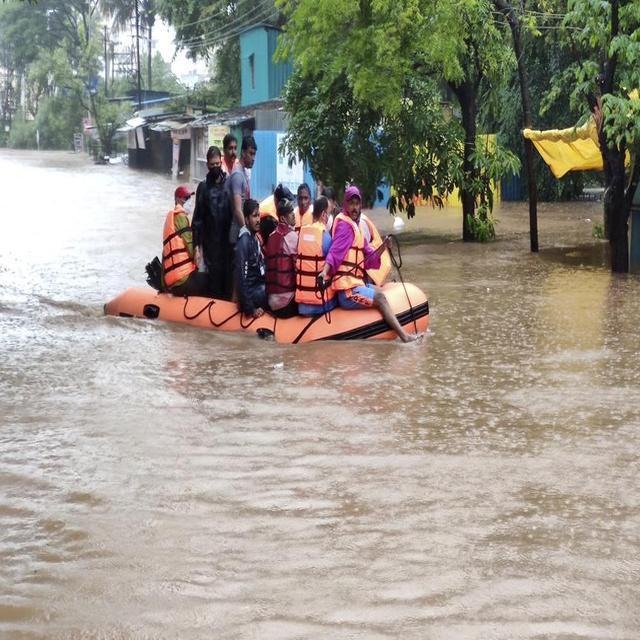Person-RiskLevel3: (150, 127, 424, 346)
